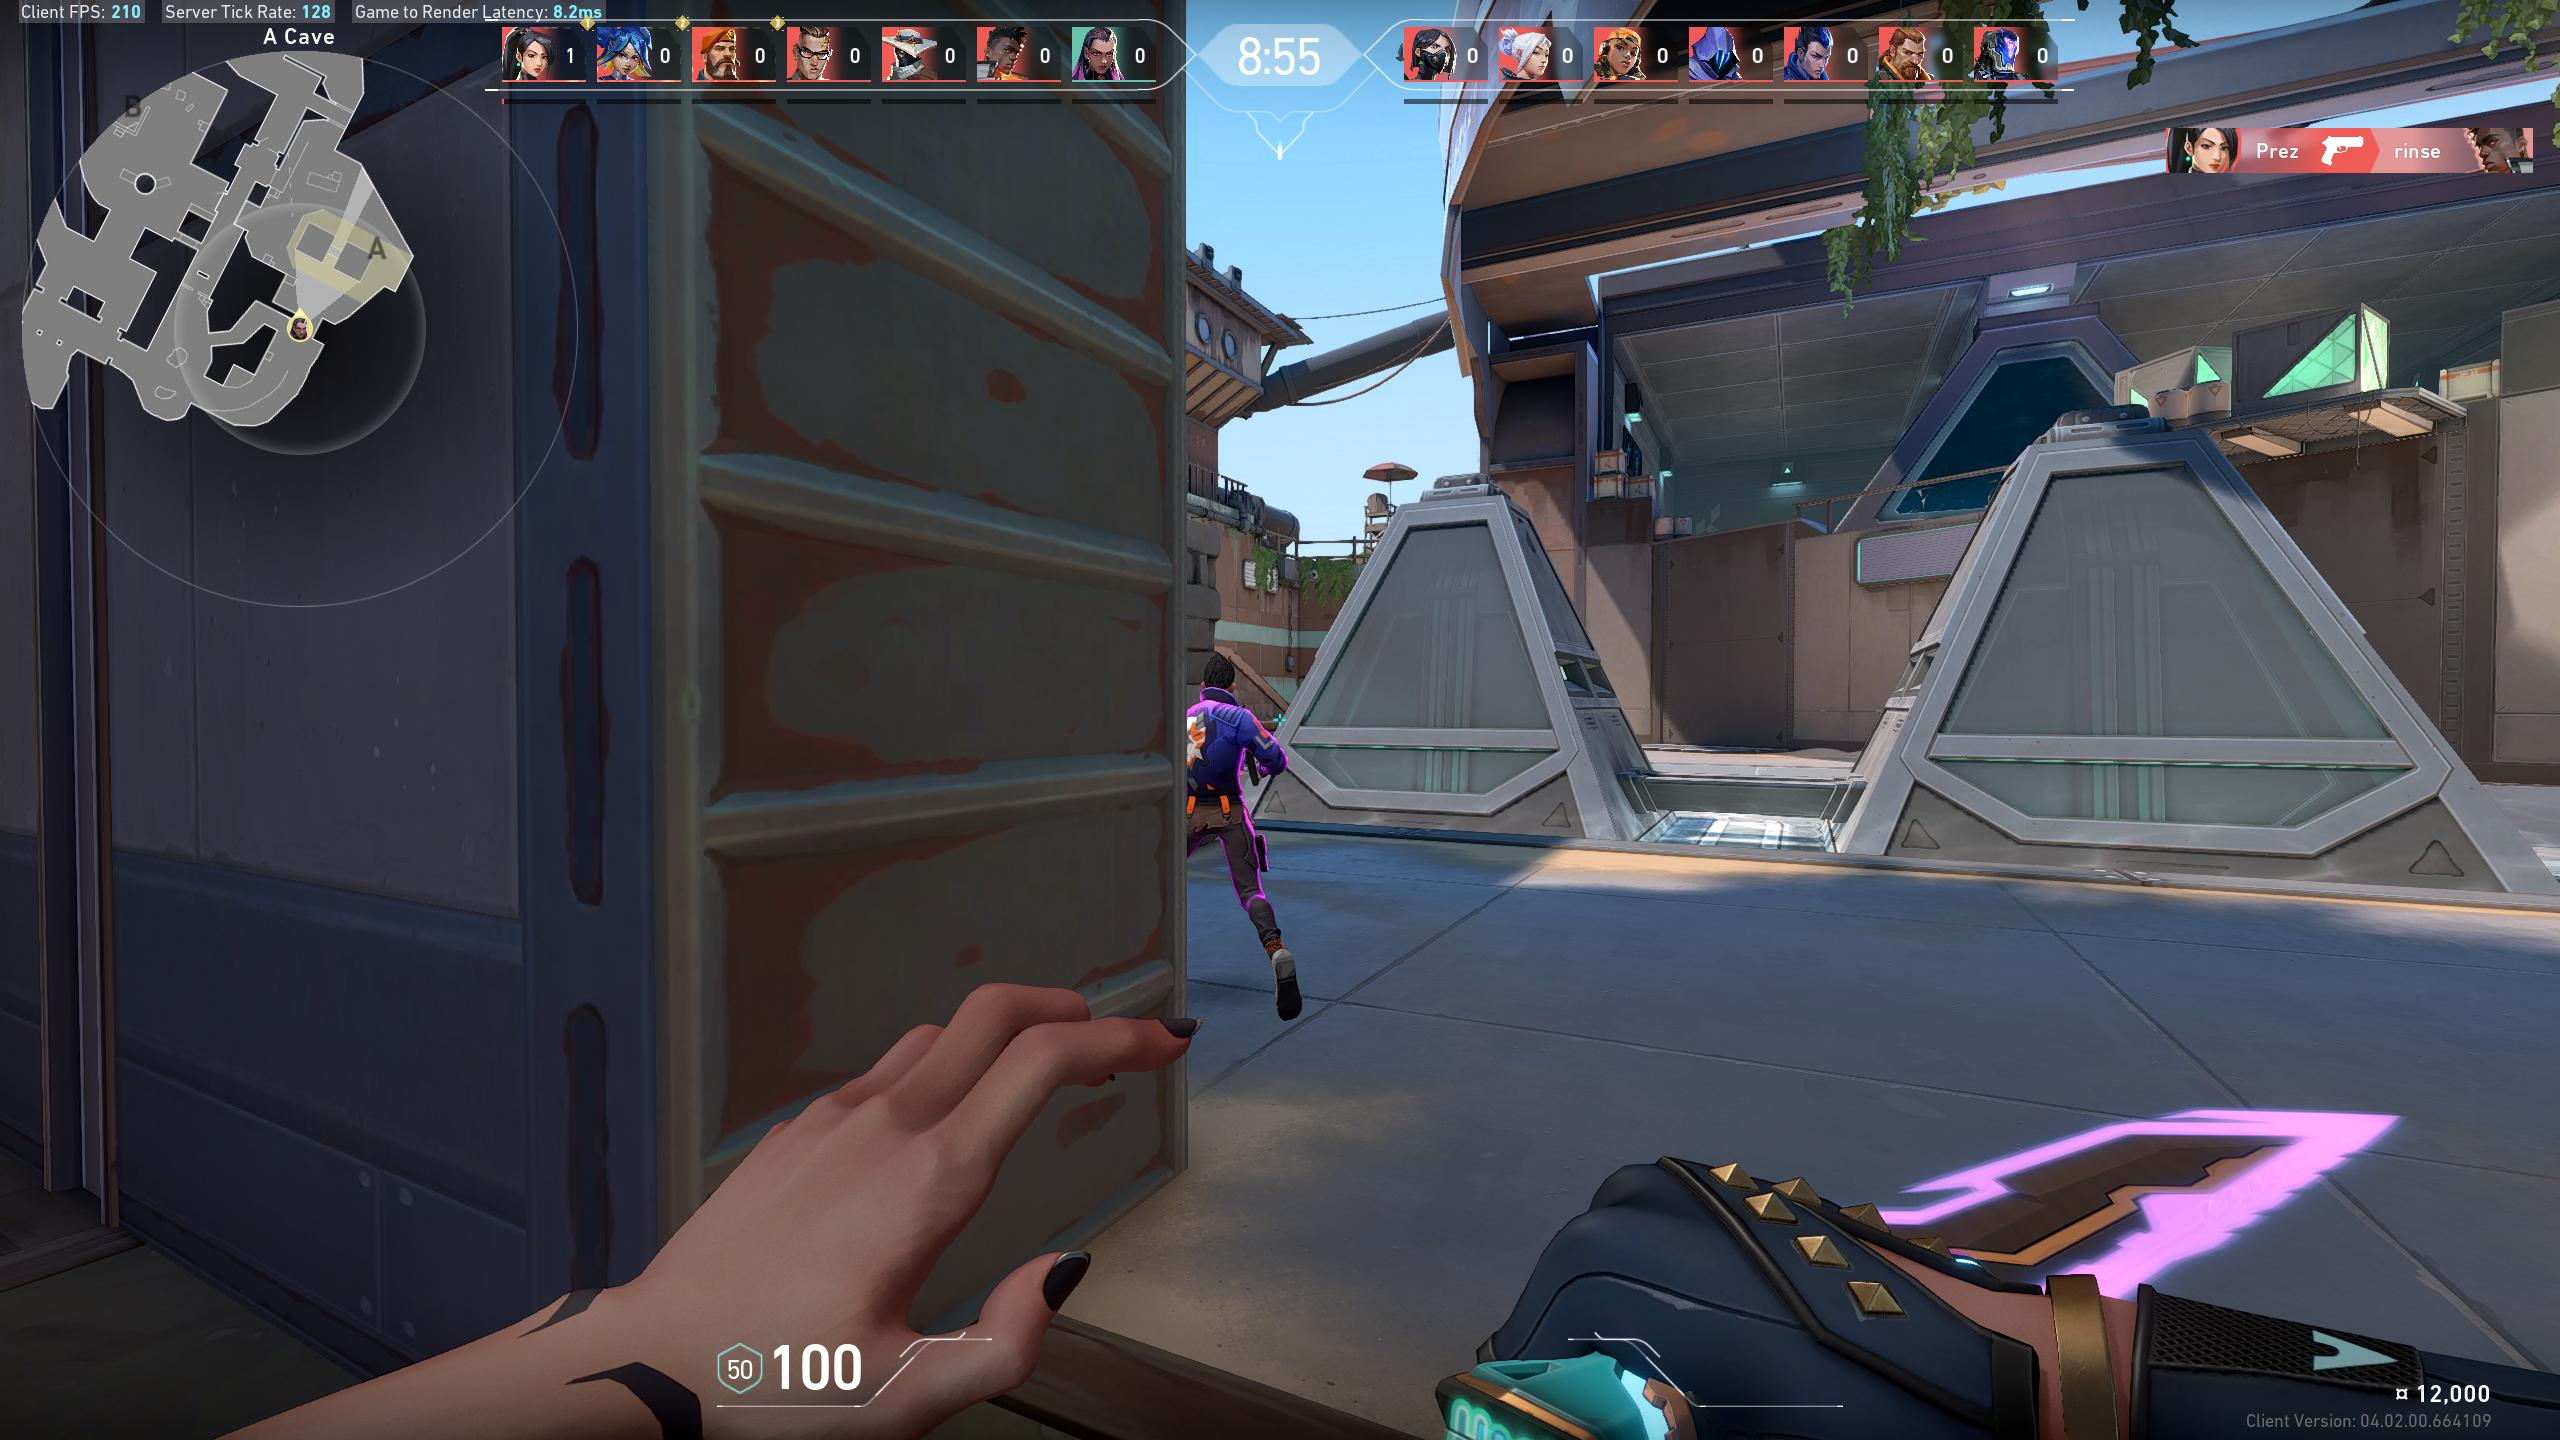enemyBody: (1190, 710, 1234, 800)
enemyHead: (1211, 666, 1227, 693)
